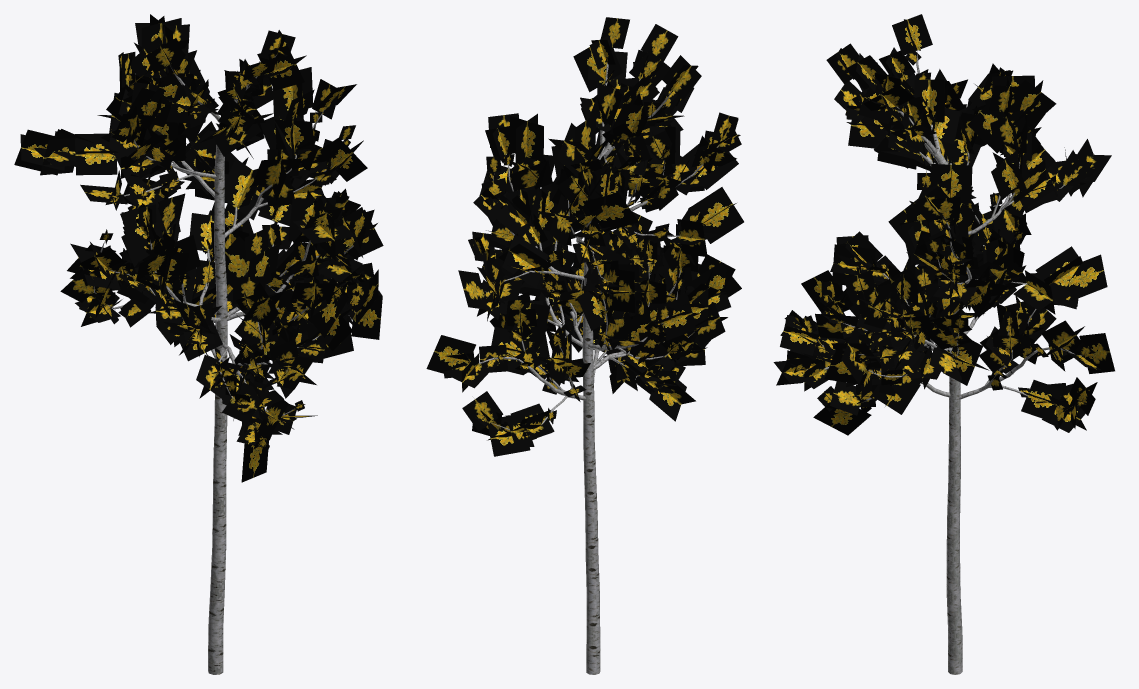
Rendered from aspen.glb.
3 views of the same model, side by side, from view 1: azimuth 30°, elevation 25°; view 2: azimuth 150°, elevation 25°; view 3: azimuth 270°, elevation 25° (orthographic). The views are drawn at different scales.
Visible parts, largest first — view 1: aspen; view 2: aspen; view 3: aspen.
Boxes of the visible parts, left/top/right/bottom form: aspen: left=14, top=14, right=383, bottom=674; aspen: left=426, top=17, right=743, bottom=674; aspen: left=773, top=14, right=1114, bottom=674.
Bounding box in the file's own units: 4.9 × 11 × 5.56.
Materials: 2 (2 with a texture image).
